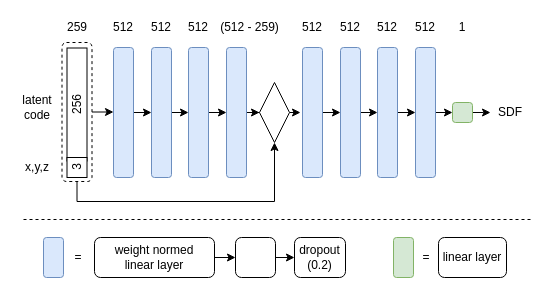
Image size: 552x295. Some labels were removed from this diagram. The shapes that lost their labels are listed below. From the top down, each one's centre as x and y in pixels, then its label:
At (274,112): "concat".
At (255,257): "relu".
